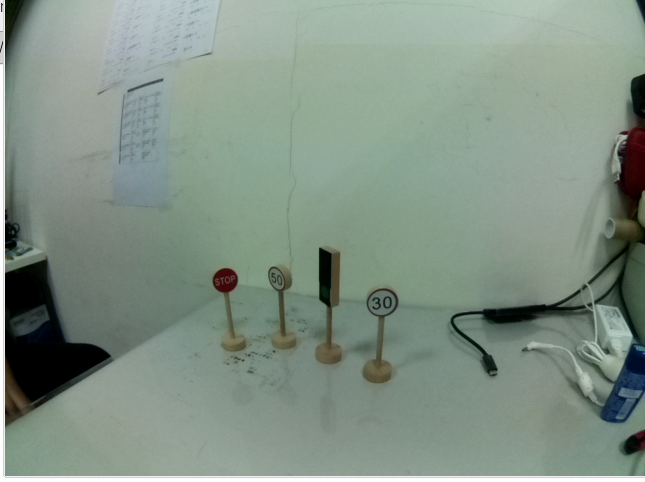Green: (314, 243, 346, 314)
Speed30: (365, 282, 399, 318)
Speed50: (265, 260, 296, 294)
Stop: (210, 264, 240, 296)
